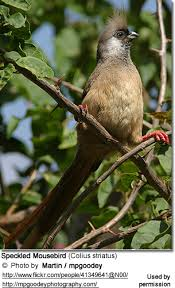target: (58, 12, 169, 209)
